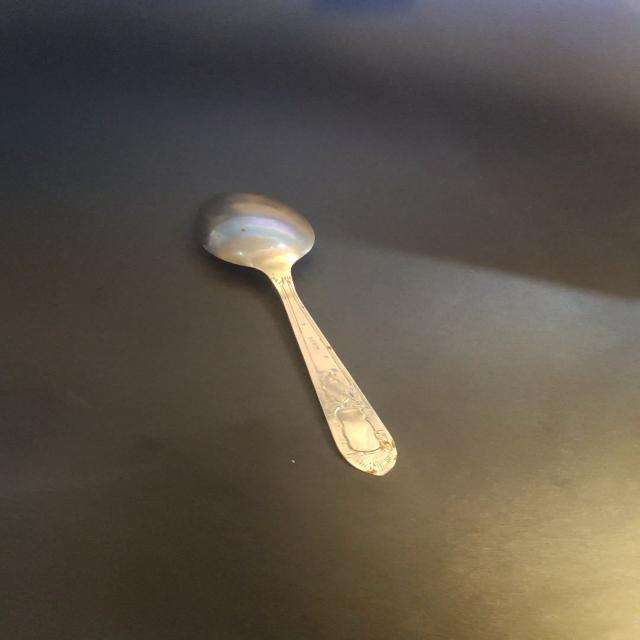plastic utensil: (204, 194, 396, 475)
